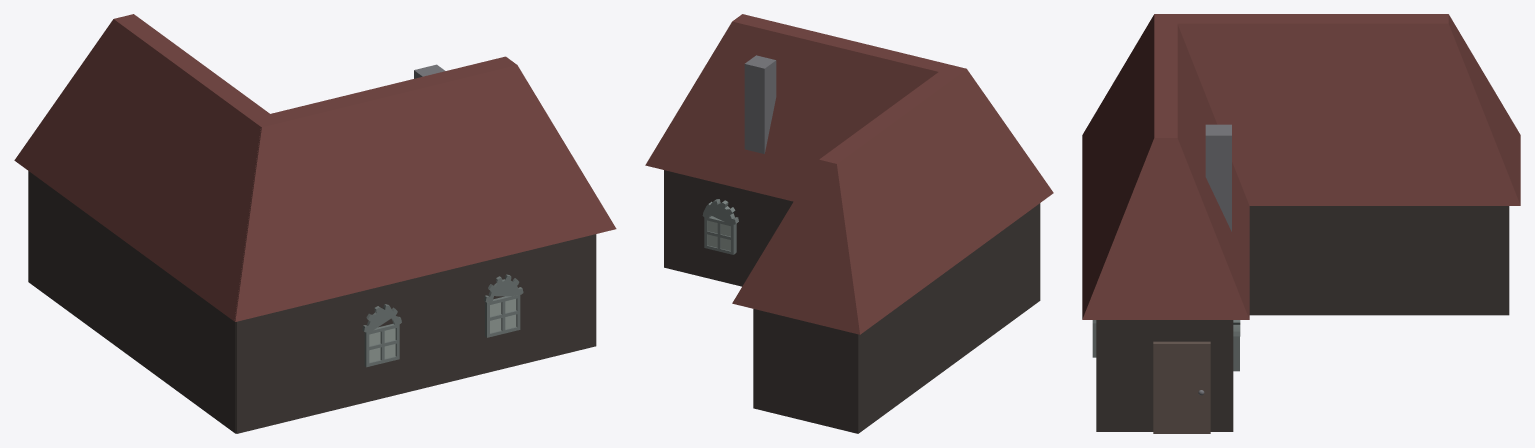
File: Building23.fbx
3 views of the same model, side by side, from view 1: azimuth 30°, elevation 25°; view 2: azimuth 150°, elevation 25°; view 3: azimuth 270°, elevation 25° (orthographic). The views are drawn at different scales.
Parts seen in each view (by area): view 1: house; view 2: house; view 3: house.
Part boxes in pixels (x1,y1,x2,y2): house: [14, 14, 616, 433]; house: [645, 14, 1053, 433]; house: [1082, 14, 1520, 433].
Size of the model in its own units: 1135 by 773 by 1138.
Materials: 1 (1 with a texture image).
